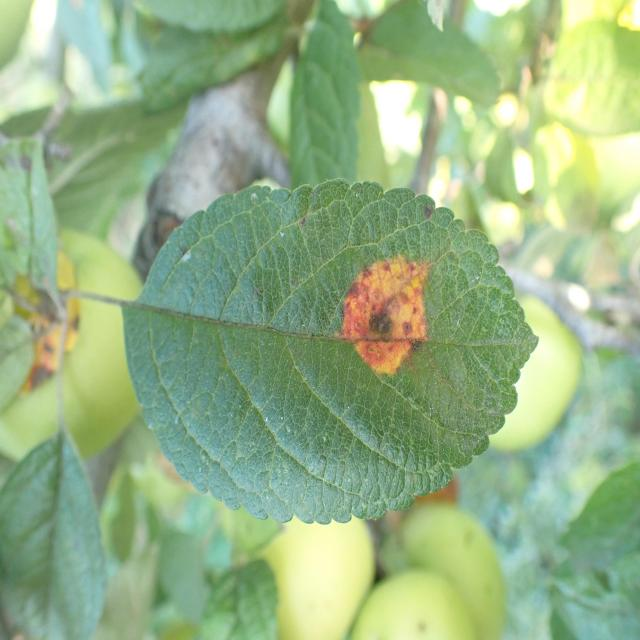Rust: (311, 218, 441, 395)
